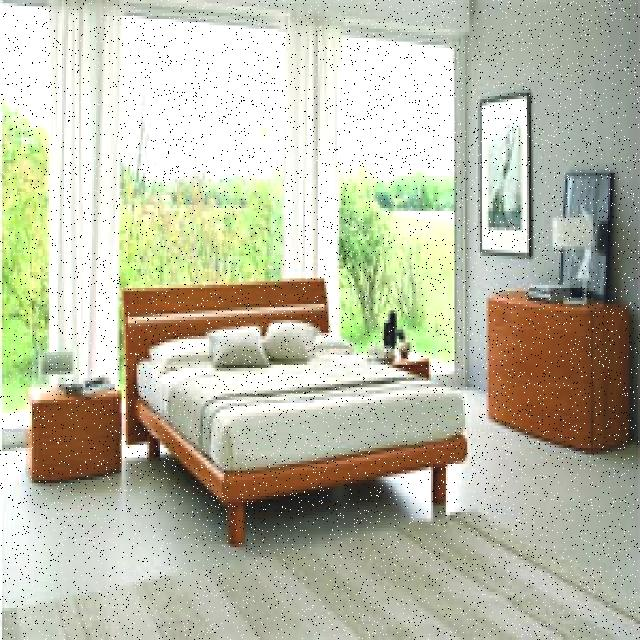bed: (124, 282, 460, 548)
